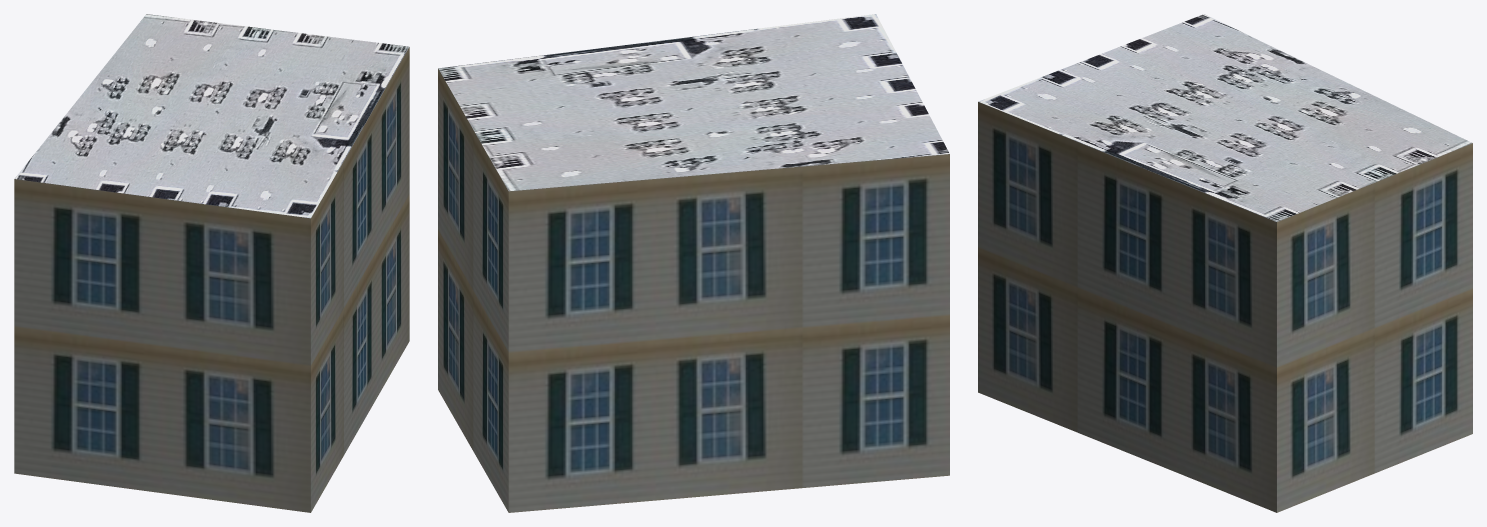
File: ResTex__1436.fbx
3 views of the same model, side by side, from view 1: azimuth 30°, elevation 25°; view 2: azimuth 150°, elevation 25°; view 3: azimuth 270°, elevation 25° (orthographic). The views are drawn at different scales.
Visible parts, largest first — view 1: CityEngineMaterial_7_m, CityEngineMaterial_15_m; view 2: CityEngineMaterial_7_m, CityEngineMaterial_15_m; view 3: CityEngineMaterial_7_m, CityEngineMaterial_15_m.
Part boxes in pixels (box(x1,y1,x2,y2)): CityEngineMaterial_7_m: box(14, 47, 409, 512); CityEngineMaterial_15_m: box(14, 14, 409, 218); CityEngineMaterial_7_m: box(438, 68, 949, 512); CityEngineMaterial_15_m: box(438, 14, 949, 191); CityEngineMaterial_7_m: box(978, 102, 1472, 512); CityEngineMaterial_15_m: box(978, 14, 1472, 221).
Bounding box in the file's own units: 9.21 × 6 × 9.25.
2 materials, 2 textured.
